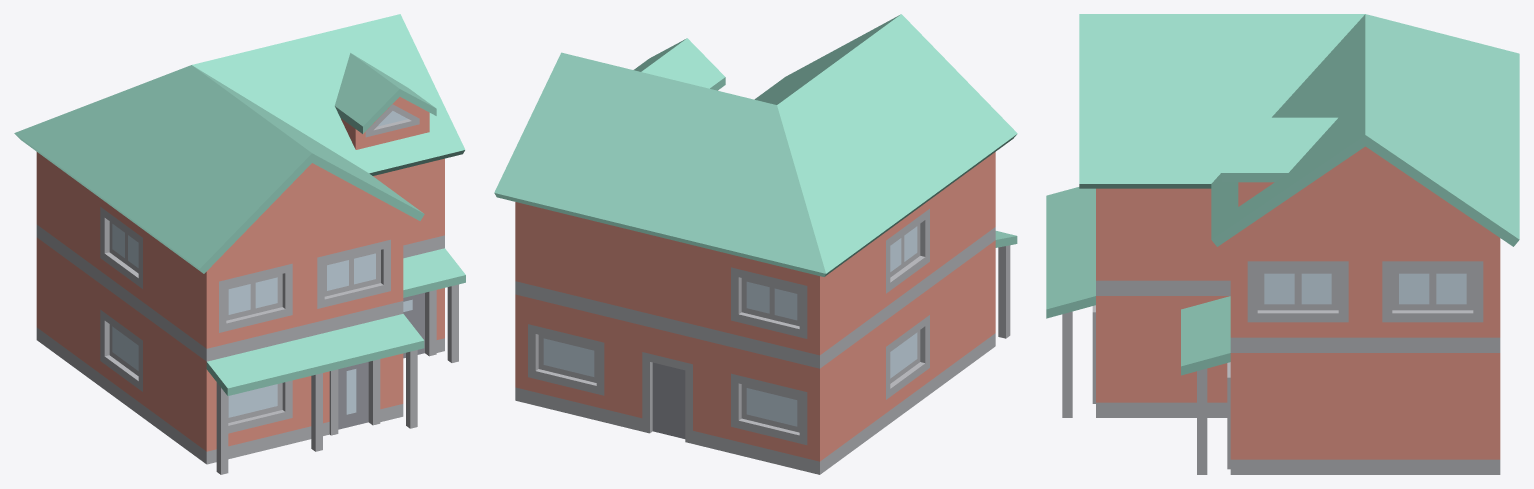
Rendered from house_type02.gltf.
The picture shows the model from 3 angles, left to right: view 1: azimuth 30°, elevation 25°; view 2: azimuth 150°, elevation 25°; view 3: azimuth 270°, elevation 25°; orthographic projection. The views are drawn at different scales.
Parts seen in each view (by area): view 1: house_type02; view 2: house_type02; view 3: house_type02.
Part boxes in pixels (<box>): house_type02: <box>14,14,465,474</box>; house_type02: <box>494,14,1017,474</box>; house_type02: <box>1046,14,1519,474</box>.
Size of the model in its own units: 1.31 by 1.14 by 1.41.
